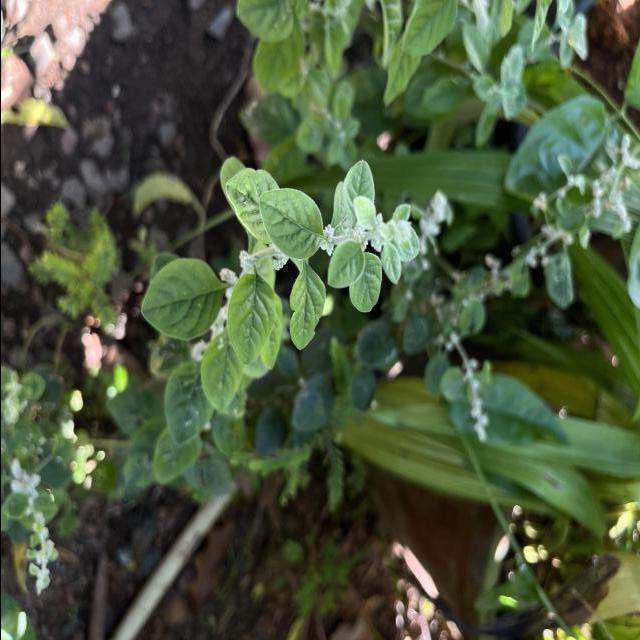Aerva lanata: (256, 187, 325, 260), (225, 272, 278, 366), (287, 264, 328, 352), (346, 250, 384, 315)
